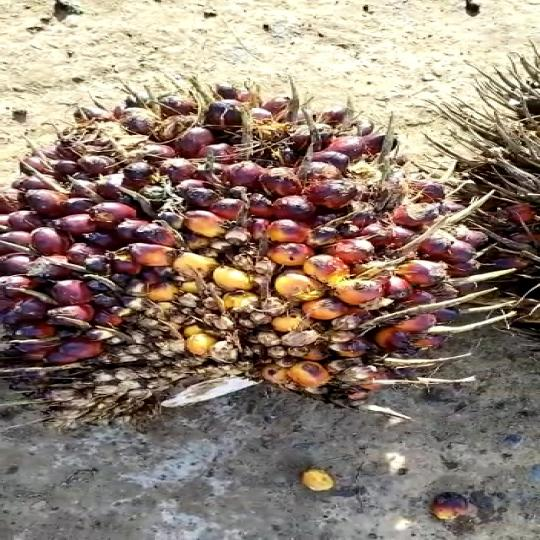kurang masak: (0, 83, 479, 420)
